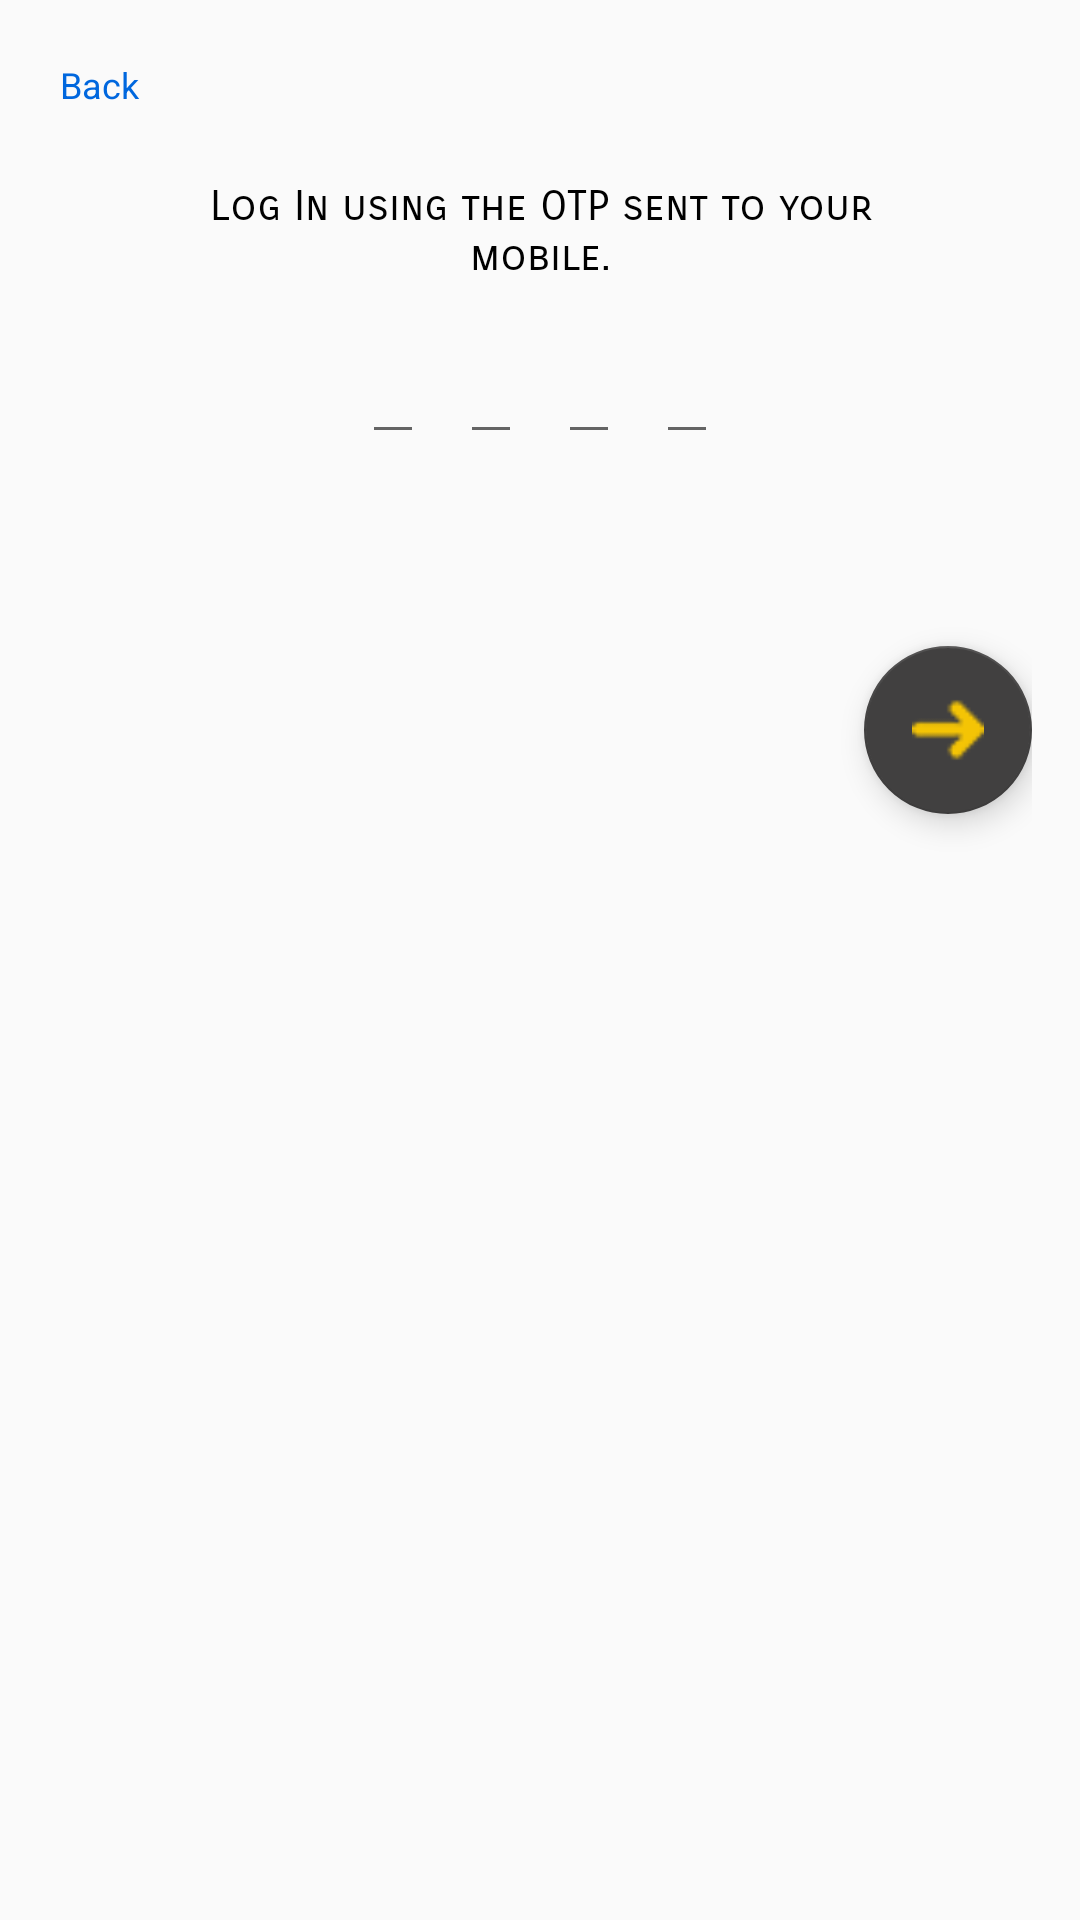

Where to tap for icons on this 1080×1920 app screen, as (x,y):
right arrow: (948,730)
